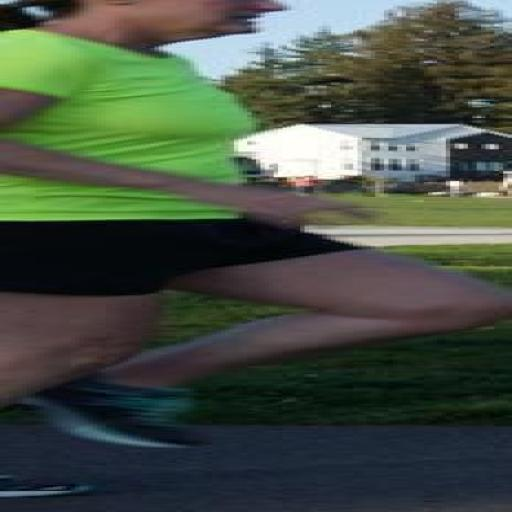person: (0, 0, 511, 446), (287, 175, 317, 194)
